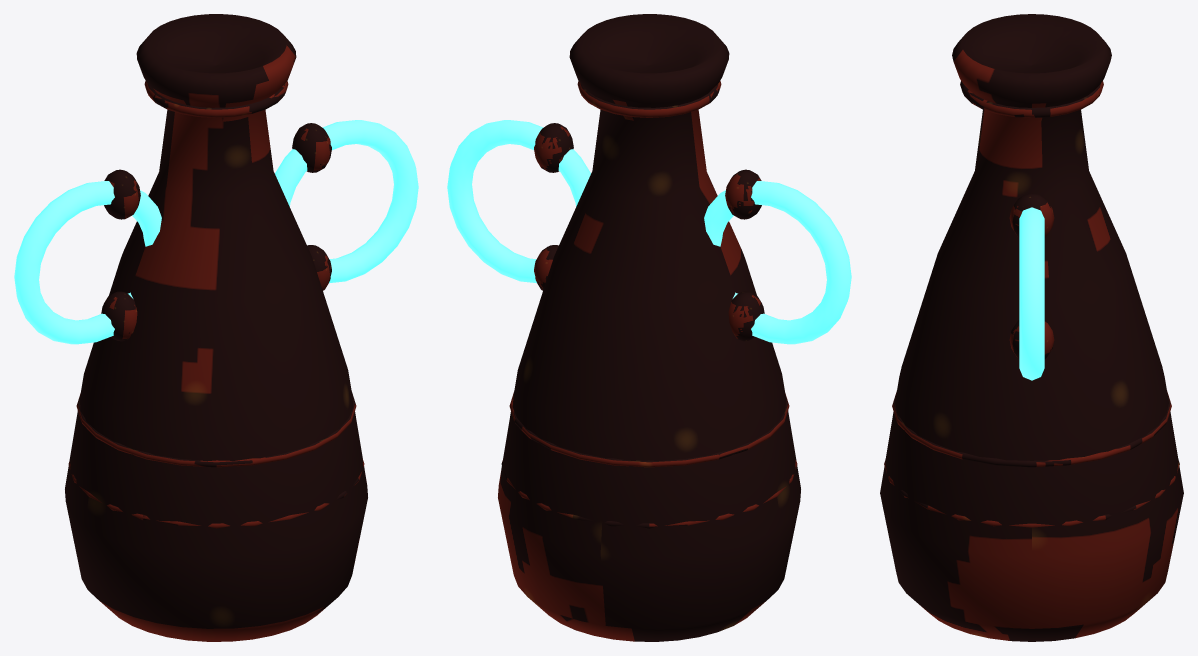
File: amphora_pattern_cinnabar.fbx
3 renders of one model, left to right at view 1: azimuth 30°, elevation 25°; view 2: azimuth 150°, elevation 25°; view 3: azimuth 270°, elevation 25°, orthographic.
Visible parts, largest first — view 1: TH10_Amphora_Body, TH10_Amphora_Handle, TH10_Amphora_Handle.001, TH10_Amphora_Band.001, TH10_Amphora_Neck, TH10_Amphora_HandleMount.002, TH10_Amphora_HandleMount, TH10_Amphora_HandleMount.001, TH10_Amphora_Band, TH10_Amphora_HandleMount.003; view 2: TH10_Amphora_Body, TH10_Amphora_Handle, TH10_Amphora_Handle.001, TH10_Amphora_Band.001, TH10_Amphora_Neck, TH10_Amphora_HandleMount.002, TH10_Amphora_HandleMount, TH10_Amphora_HandleMount.001, TH10_Amphora_Band, TH10_Amphora_HandleMount.003; view 3: TH10_Amphora_Body, TH10_Amphora_Handle.001, TH10_Amphora_Band.001, TH10_Amphora_Neck, TH10_Amphora_HandleMount.002, TH10_Amphora_Band, TH10_Amphora_HandleMount.003.
Boxes of the visible parts, x1,y1,x2,y2 form: TH10_Amphora_Body: (65, 14, 367, 641); TH10_Amphora_Handle: (14, 181, 161, 344); TH10_Amphora_Handle.001: (275, 120, 418, 283); TH10_Amphora_Band.001: (76, 391, 356, 467); TH10_Amphora_Neck: (144, 81, 288, 117); TH10_Amphora_HandleMount.002: (292, 123, 331, 172); TH10_Amphora_HandleMount: (104, 169, 140, 219); TH10_Amphora_HandleMount.001: (101, 291, 137, 341); TH10_Amphora_Band: (68, 459, 364, 528); TH10_Amphora_HandleMount.003: (307, 245, 331, 290); TH10_Amphora_Body: (498, 14, 800, 641); TH10_Amphora_Handle: (704, 181, 851, 344); TH10_Amphora_Handle.001: (447, 120, 590, 283); TH10_Amphora_Band.001: (509, 391, 789, 467); TH10_Amphora_Neck: (577, 81, 721, 117); TH10_Amphora_HandleMount.002: (534, 123, 573, 172); TH10_Amphora_HandleMount: (725, 169, 761, 219); TH10_Amphora_HandleMount.001: (728, 291, 764, 341); TH10_Amphora_Band: (501, 459, 797, 528); TH10_Amphora_HandleMount.003: (534, 245, 558, 290); TH10_Amphora_Body: (880, 14, 1183, 641); TH10_Amphora_Handle.001: (1019, 207, 1044, 380); TH10_Amphora_Band.001: (892, 391, 1171, 467); TH10_Amphora_Neck: (960, 81, 1103, 117); TH10_Amphora_HandleMount.002: (1009, 193, 1054, 237); TH10_Amphora_Band: (884, 459, 1179, 527); TH10_Amphora_HandleMount.003: (1009, 320, 1054, 359).
Bounding box in the file's own units: 0.29 × 0.38 × 0.19.
Materials: 2 (1 with a texture image).
